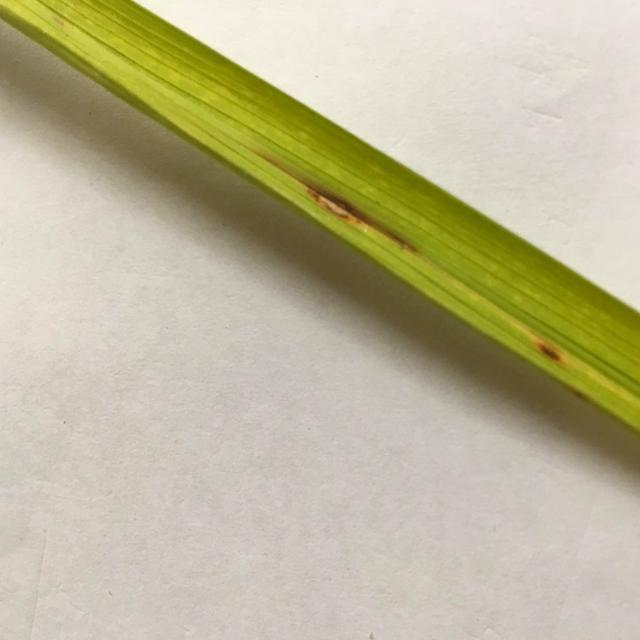Blast: (310, 186, 353, 222), (532, 336, 572, 364)
